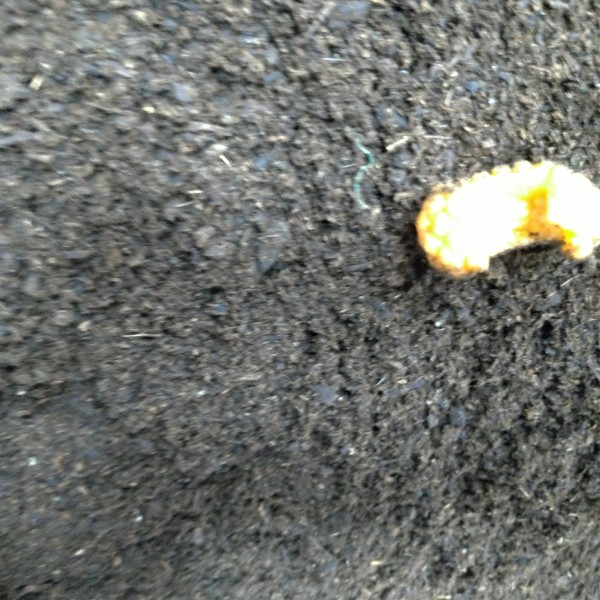eggs: (413, 153, 600, 277)
